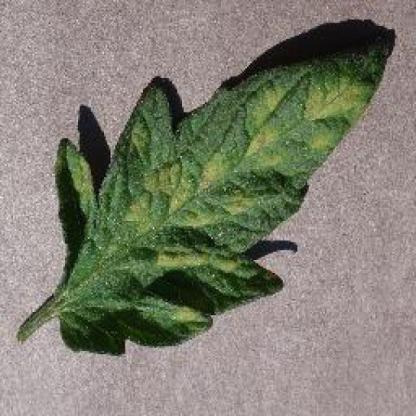Tomato_Leaf_Mold: (55, 25, 396, 355)
